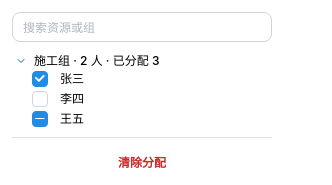
Scenario: ResourceAssignmentList 三态 › 搜索按名过滤并自动展开命中的组
Note: 先折叠组，再搜索 —— 过滤态下必须被强制展开
Step 1. Click the button with test id "assignment-group-toggle-g1" → [21, 61], box [12,52,30,70]
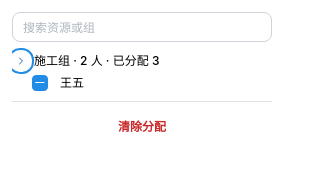
Step 2. Type "张三" into the field with test id "assignment-search" → [142, 27], box [12,12,272,42]
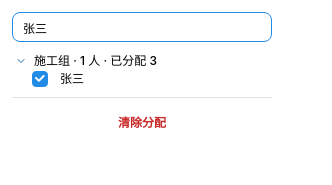
Check: the checkbox with test id "assignment-resource-r-alice" is shown, box [32,71,48,87]
